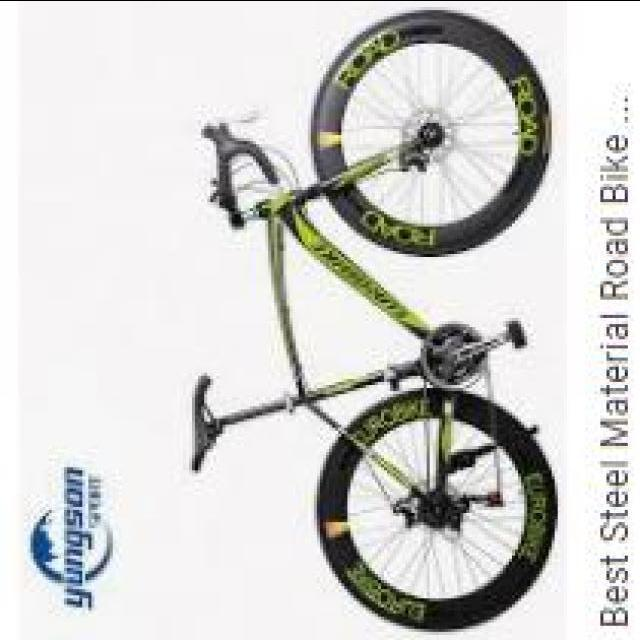bicycle: (184, 7, 540, 640)
